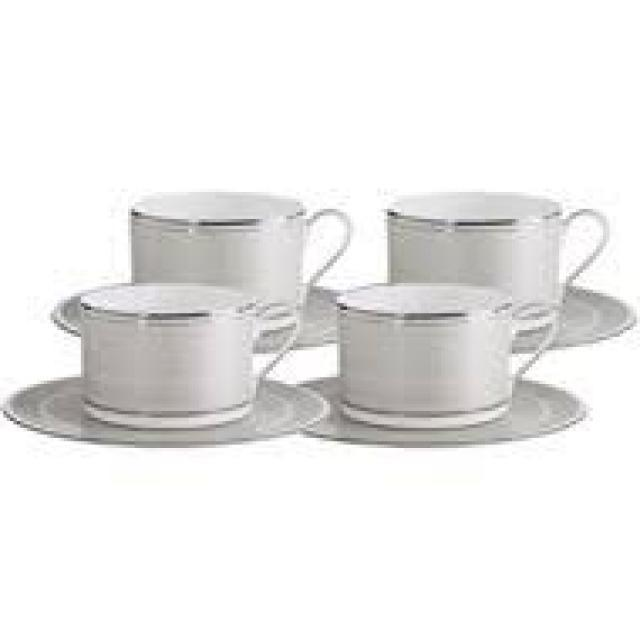taza: (329, 270, 564, 439), (54, 278, 300, 428), (374, 168, 612, 288), (118, 180, 352, 294)
